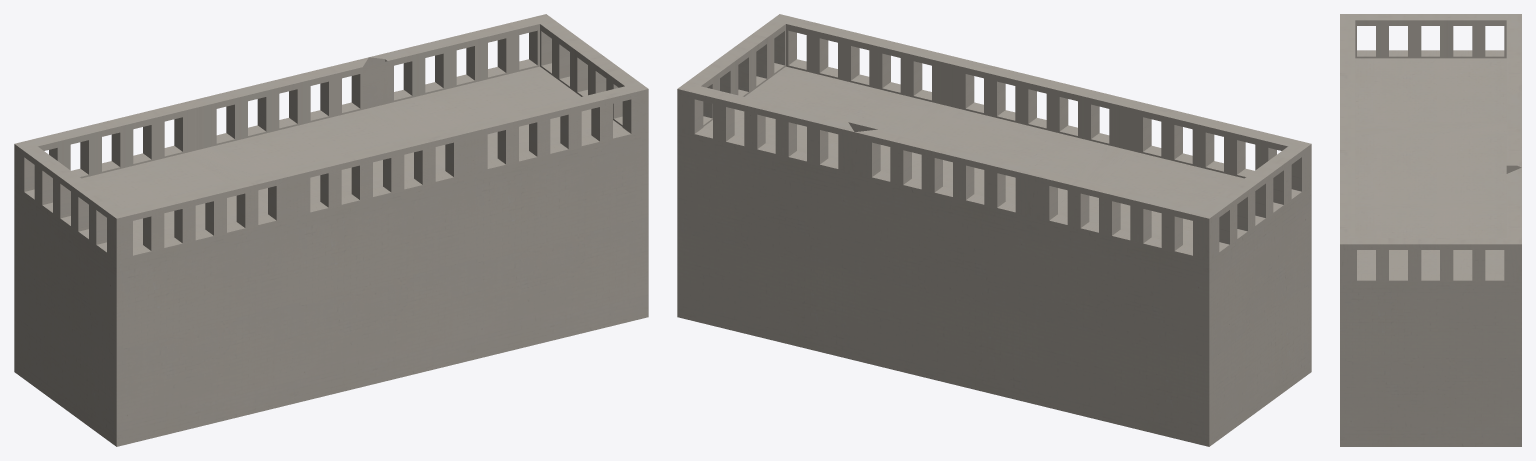
Rendered from WhiteBrick_Top_threeBox_1.fbx.
The picture shows the model from 3 angles, left to right: view 1: azimuth 30°, elevation 25°; view 2: azimuth 150°, elevation 25°; view 3: azimuth 270°, elevation 25°; orthographic projection. The views are drawn at different scales.
Visible parts, largest first — view 1: Cube.012; view 2: Cube.012; view 3: Cube.012.
Boxes of the visible parts, x1,y1,x2,y2 form: Cube.012: (14,14,648,446); Cube.012: (677,14,1311,446); Cube.012: (1340,14,1521,446).
Bounding box in the file's own units: 600 × 246 × 200.
